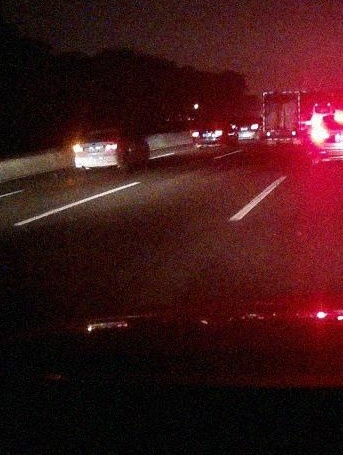L_light: (72, 144, 84, 153), (191, 131, 200, 138), (265, 132, 272, 136)
R_light: (105, 142, 118, 150), (215, 130, 224, 136), (291, 132, 298, 135)
T_light: (95, 129, 105, 132), (278, 93, 286, 96), (207, 120, 214, 123)
night-left: (72, 126, 123, 173)
night-no: (262, 91, 301, 147), (191, 119, 227, 149)
